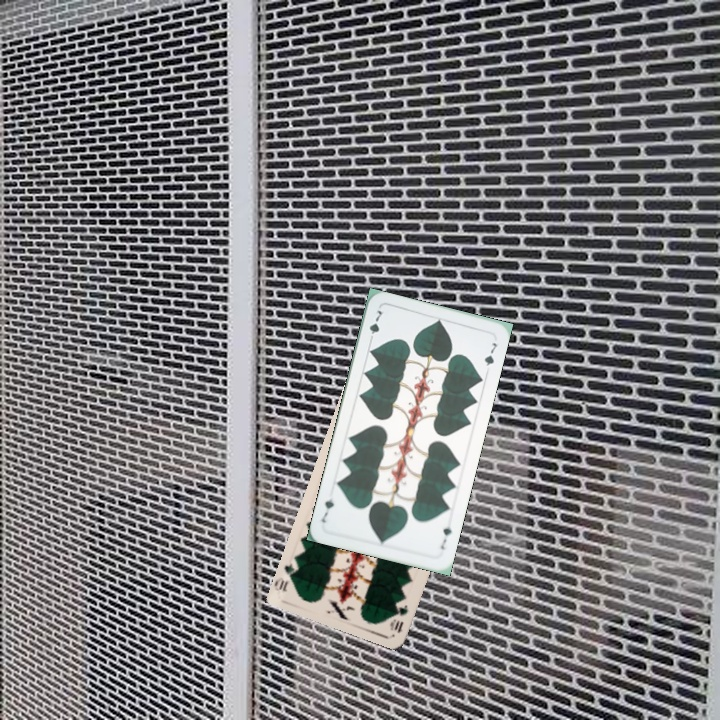G10: (386, 600, 410, 636)
G7: (365, 306, 386, 345), (437, 522, 454, 552)
